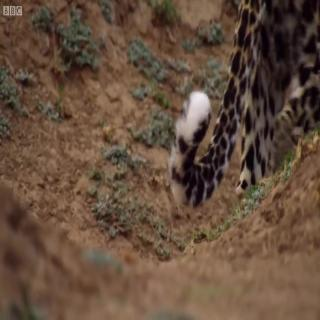Leopard: (169, 0, 320, 201)
